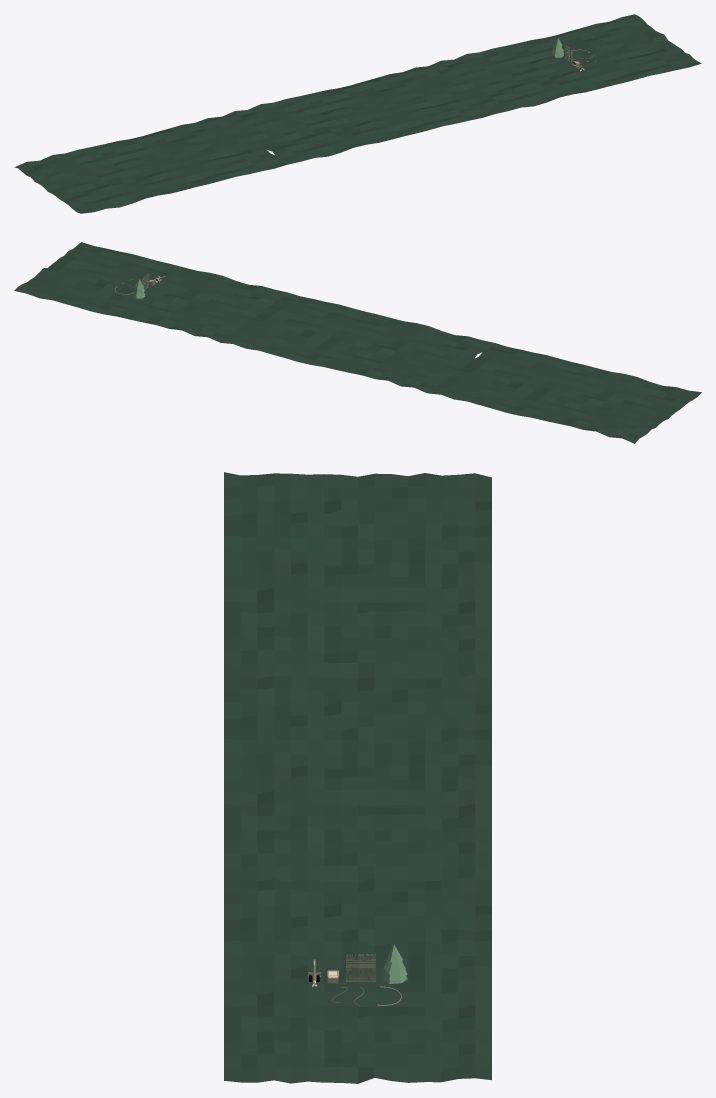
File: Zagork.fbx
The picture shows the model from 3 angles, top to bottom: view 1: azimuth 30°, elevation 25°; view 2: azimuth 150°, elevation 25°; view 3: azimuth 270°, elevation 25°; orthographic projection. The views are drawn at different scales.
Parts seen in each view (by area): view 1: EndTerrain; view 2: EndTerrain; view 3: EndTerrain.
Boxes of the visible parts, x1,y1,x2,y2 form: EndTerrain: [14, 14, 701, 213]; EndTerrain: [14, 242, 701, 443]; EndTerrain: [224, 472, 491, 1083].
Bounding box in the file's own units: 386 × 12.31 × 72.27.
Materials: 5 (5 with a texture image).
